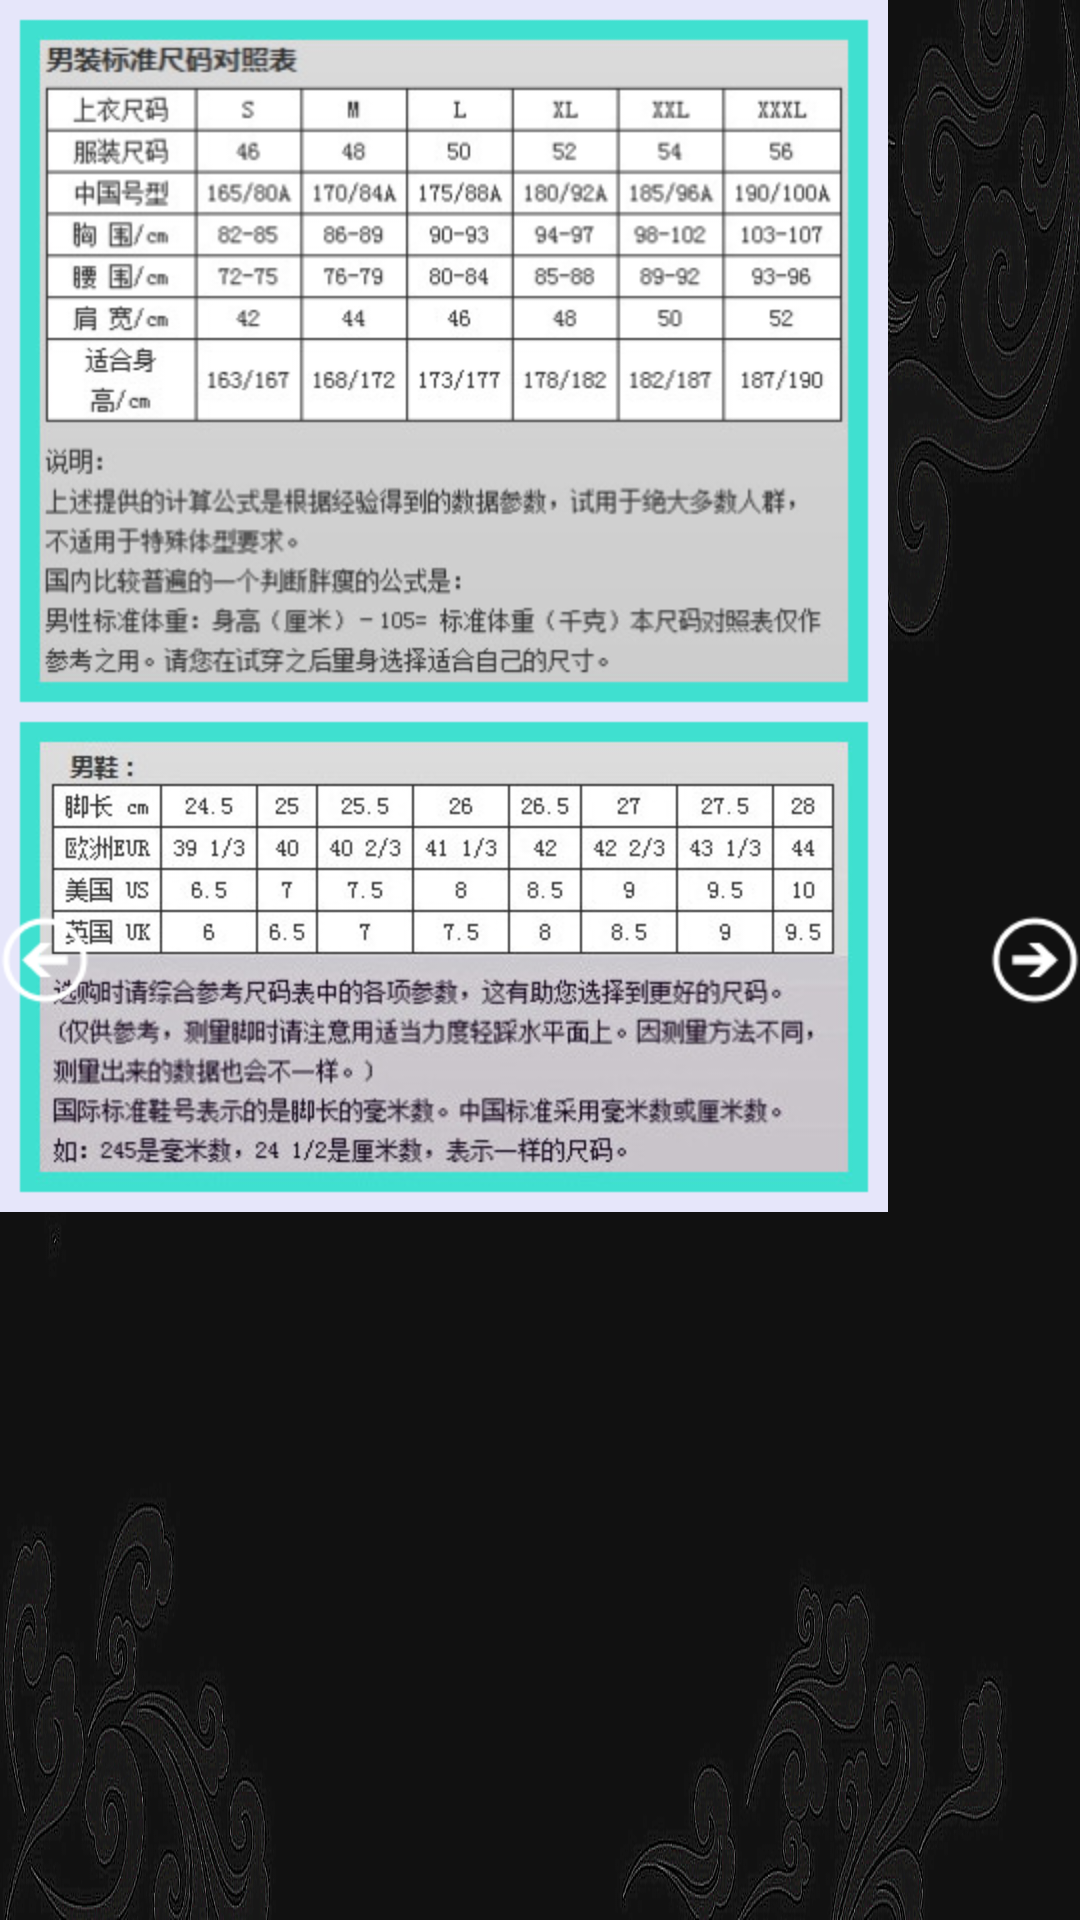

Where to tap for icons on this 1080px×1920px app screen, as [x,y]:
left: [45,960]
right: [1035,960]
